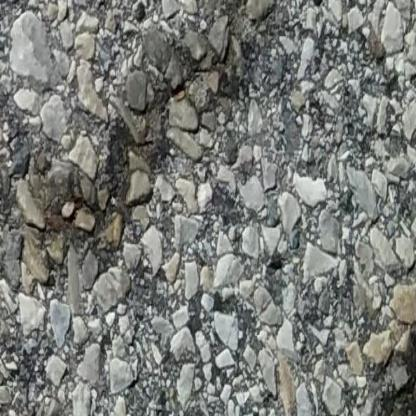Cracks: (0, 0, 290, 302), (363, 315, 416, 416), (0, 338, 24, 416), (25, 409, 77, 416)
